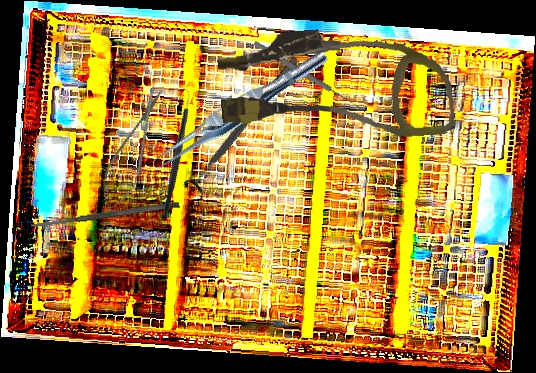Cannula: (215, 18, 456, 153)
Chopper: (120, 85, 231, 218)
Fixation Ring: (180, 49, 307, 202)
Micro Scissor: (92, 80, 174, 217)
Spatula Surgical: (30, 200, 180, 230)
Surgical Spoon: (252, 39, 365, 114)
Tissue Forceps: (146, 41, 333, 180)
